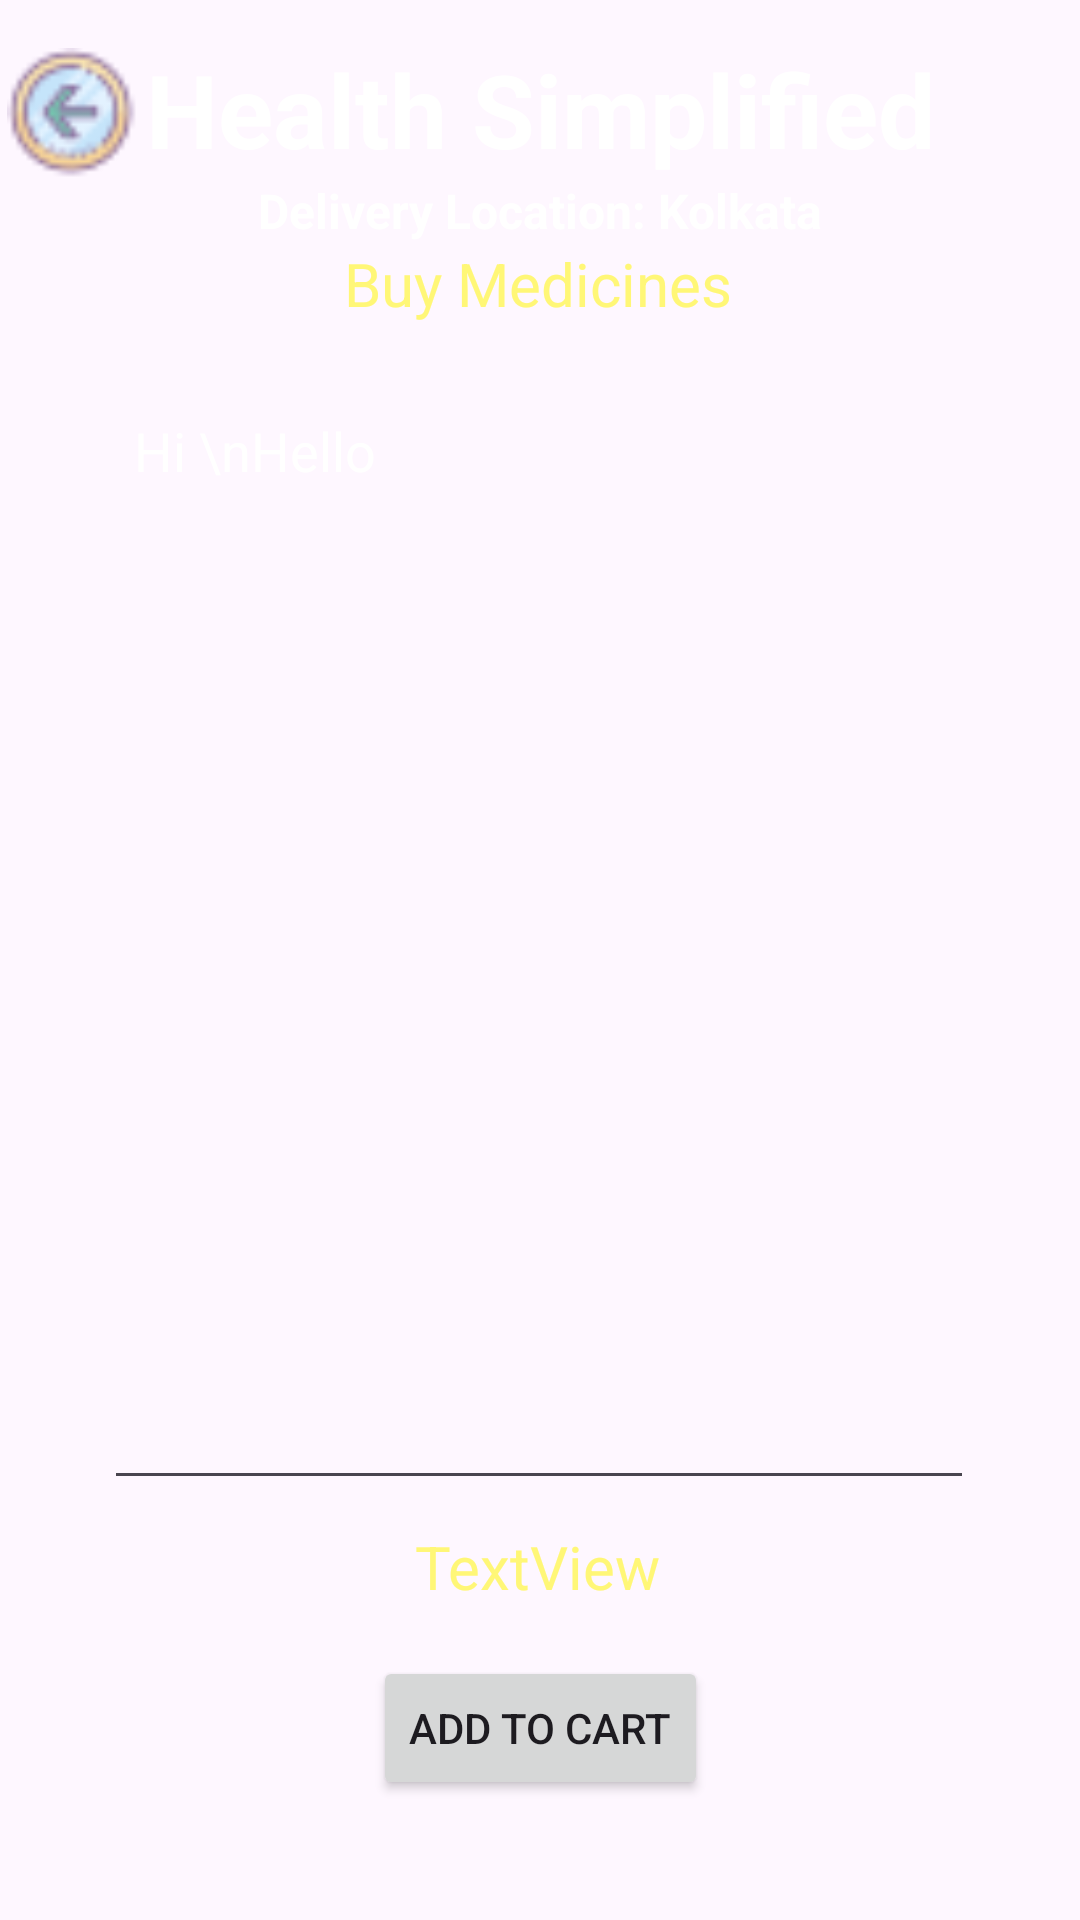

Icon click points for this 1080x1920 phone screenshot, format (x=x, y=y):
back: (x=70, y=111)
